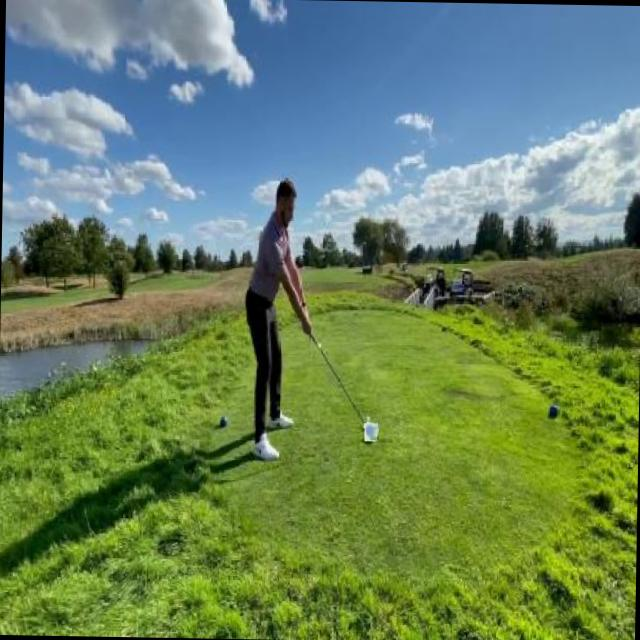club head: (363, 423, 378, 441)
